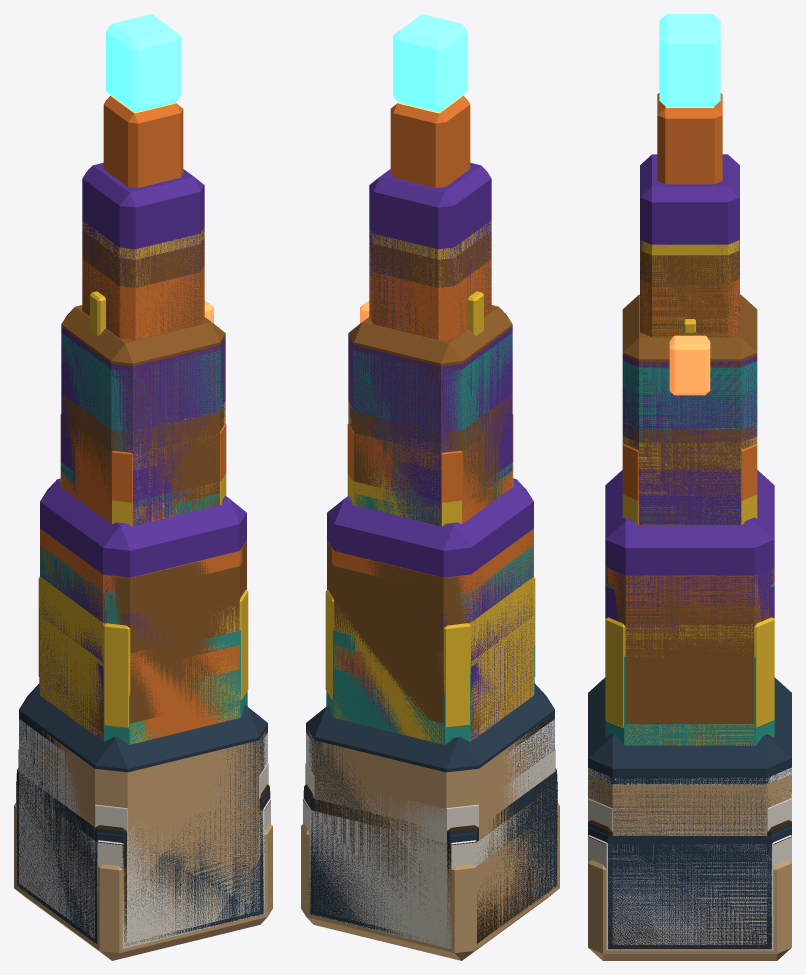
The model's file is flagship_props_015.glb.
The picture shows the model from 3 angles, left to right: view 1: azimuth 30°, elevation 25°; view 2: azimuth 150°, elevation 25°; view 3: azimuth 270°, elevation 25°; orthographic projection.
Visible parts, largest first — view 1: Prop_BBIsle_Obelisk_04, Prop_BBIsle_Obelisk_00, Prop_BBIsle_Obelisk_01, Prop_BBIsle_Obelisk_06, Prop_BBIsle_Obelisk_11, Prop_BBIsle_Obelisk_14, Prop_BBIsle_Obelisk_15, Prop_BBIsle_Obelisk_08, Prop_BBIsle_Obelisk_02, Prop_BBIsle_Obelisk_12, Prop_BBIsle_Obelisk_07, Prop_BBIsle_Obelisk_03 (+5 smaller); view 2: Prop_BBIsle_Obelisk_04, Prop_BBIsle_Obelisk_00, Prop_BBIsle_Obelisk_06, Prop_BBIsle_Obelisk_11, Prop_BBIsle_Obelisk_15, Prop_BBIsle_Obelisk_02, Prop_BBIsle_Obelisk_08, Prop_BBIsle_Obelisk_03, Prop_BBIsle_Obelisk_14, Prop_BBIsle_Obelisk_01, Prop_BBIsle_Obelisk_09, Prop_BBIsle_Obelisk_05 (+5 smaller); view 3: Prop_BBIsle_Obelisk_00, Prop_BBIsle_Obelisk_04, Prop_BBIsle_Obelisk_14, Prop_BBIsle_Obelisk_06, Prop_BBIsle_Obelisk_01, Prop_BBIsle_Obelisk_15, Prop_BBIsle_Obelisk_11, Prop_BBIsle_Obelisk_08, Prop_BBIsle_Obelisk_12, Prop_BBIsle_Obelisk_02, Prop_BBIsle_Obelisk_10, Prop_BBIsle_Obelisk_09 (+5 smaller).
Part boxes in pixels (x1,y1,x2,y2): Prop_BBIsle_Obelisk_04: [19, 231, 267, 929]; Prop_BBIsle_Obelisk_00: [19, 327, 267, 937]; Prop_BBIsle_Obelisk_01: [16, 259, 270, 944]; Prop_BBIsle_Obelisk_06: [19, 279, 267, 928]; Prop_BBIsle_Obelisk_11: [17, 14, 269, 945]; Prop_BBIsle_Obelisk_14: [19, 305, 267, 901]; Prop_BBIsle_Obelisk_15: [19, 96, 267, 902]; Prop_BBIsle_Obelisk_08: [18, 333, 268, 943]; Prop_BBIsle_Obelisk_02: [17, 463, 269, 945]; Prop_BBIsle_Obelisk_12: [19, 221, 267, 904]; Prop_BBIsle_Obelisk_07: [16, 416, 270, 944]; Prop_BBIsle_Obelisk_03: [18, 462, 268, 942]; Prop_BBIsle_Obelisk_04: [307, 231, 554, 899]; Prop_BBIsle_Obelisk_00: [306, 327, 554, 915]; Prop_BBIsle_Obelisk_06: [306, 279, 554, 878]; Prop_BBIsle_Obelisk_11: [304, 14, 556, 918]; Prop_BBIsle_Obelisk_15: [306, 96, 554, 779]; Prop_BBIsle_Obelisk_02: [304, 463, 556, 943]; Prop_BBIsle_Obelisk_08: [305, 333, 555, 942]; Prop_BBIsle_Obelisk_03: [305, 462, 555, 942]; Prop_BBIsle_Obelisk_14: [306, 305, 553, 799]; Prop_BBIsle_Obelisk_01: [303, 259, 557, 937]; Prop_BBIsle_Obelisk_09: [301, 803, 559, 960]; Prop_BBIsle_Obelisk_05: [303, 432, 557, 946]; Prop_BBIsle_Obelisk_00: [588, 355, 791, 944]; Prop_BBIsle_Obelisk_04: [619, 250, 765, 944]; Prop_BBIsle_Obelisk_14: [588, 294, 791, 935]; Prop_BBIsle_Obelisk_06: [588, 283, 791, 944]; Prop_BBIsle_Obelisk_01: [588, 279, 791, 949]; Prop_BBIsle_Obelisk_15: [605, 107, 774, 925]; Prop_BBIsle_Obelisk_11: [588, 14, 791, 835]; Prop_BBIsle_Obelisk_08: [588, 361, 791, 945]; Prop_BBIsle_Obelisk_12: [605, 240, 774, 943]; Prop_BBIsle_Obelisk_02: [588, 495, 791, 948]; Prop_BBIsle_Obelisk_10: [613, 470, 787, 936]; Prop_BBIsle_Obelisk_09: [588, 860, 791, 960].
Size of the model in its own units: 1 by 4.88 by 1.
